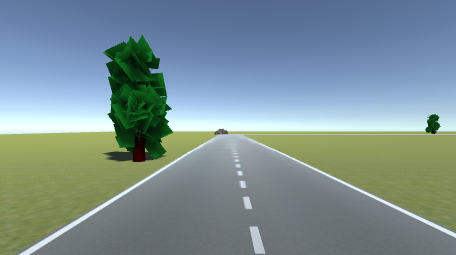rock: (214, 128, 230, 135)
tree: (102, 35, 173, 164), (425, 114, 441, 135)
